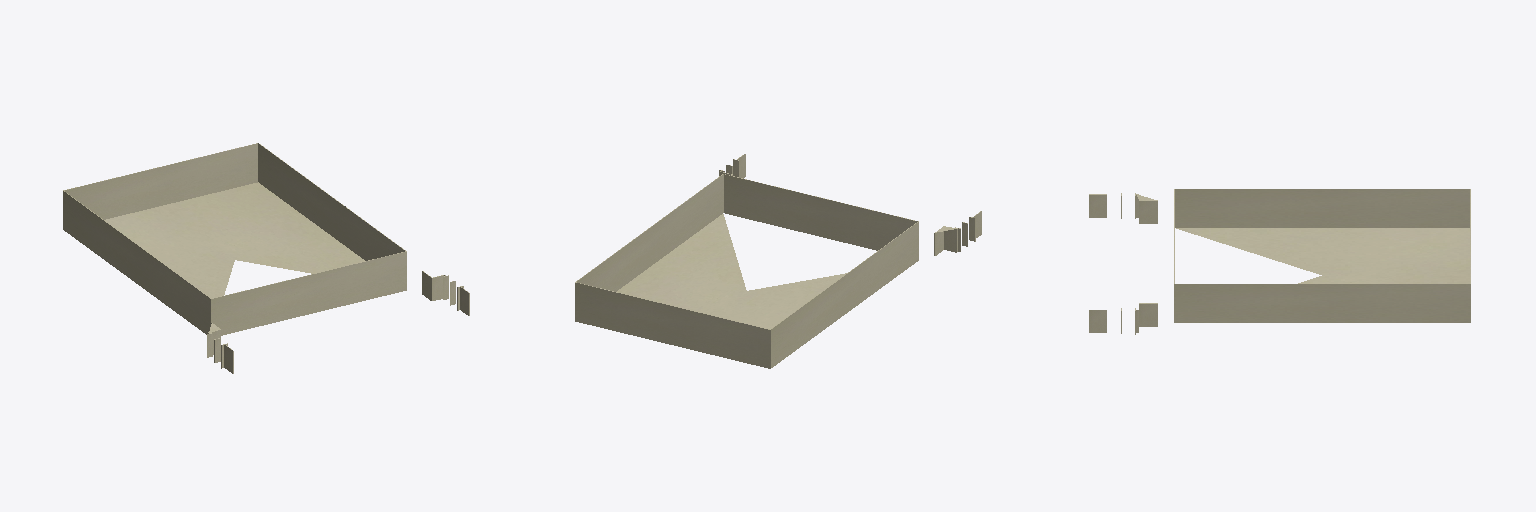
3 renders of one model, left to right at view 1: azimuth 30°, elevation 25°; view 2: azimuth 150°, elevation 25°; view 3: azimuth 270°, elevation 25°, orthographic.
Visible parts, largest first — view 1: 3dSolid; view 2: 3dSolid; view 3: 3dSolid.
Boxes of the visible parts, <box> form: 3dSolid: <box>63,143,469,373</box>; 3dSolid: <box>575,154,981,368</box>; 3dSolid: <box>1089,189,1470,334</box>.
Bounding box in the file's own units: 1947 × 300 × 2652.
Materials: 1 (1 with a texture image).